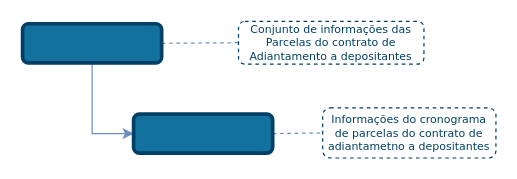
Image size: 517x179. Some labels were removed from this diagram. The centre of each missing label's shape, as x and y in pixels:
"Ballon Payment" goes at point (202, 133).
"Data" goes at point (91, 42).
